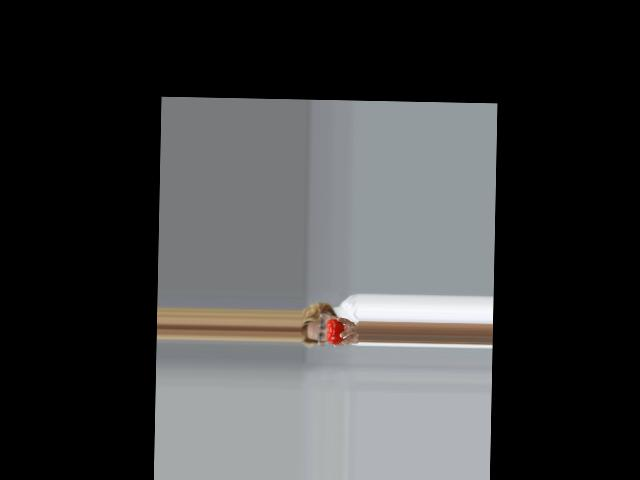tomato: (327, 318, 344, 343)
